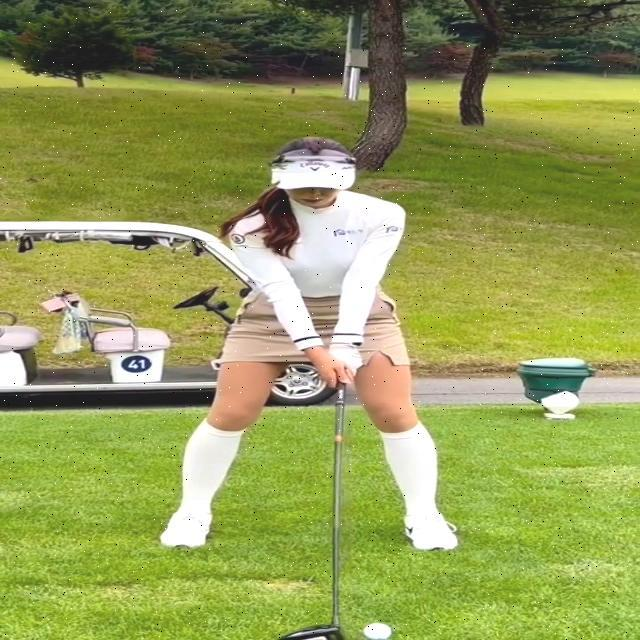golf ball: (365, 623, 391, 640)
golf club-handle: (279, 381, 347, 640)
golf club-head: (281, 624, 343, 640)
